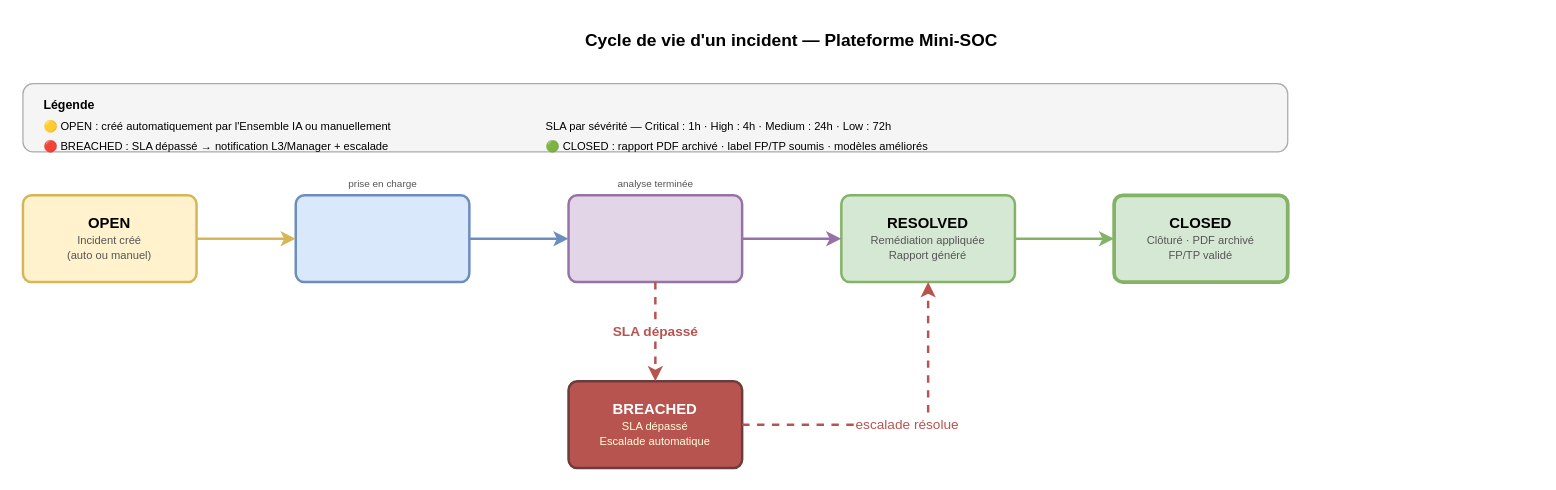
Image size: 1556x490. Some labels were removed from this diagram. The centre of each missing label's shape, as x and y in pixels:
"ASSIGNED Analyste assigné (IA ou manuel L3)" goes at point (382, 238).
"IN PROGRESS Investigation SOAR · Analyse IA" goes at point (655, 238).
